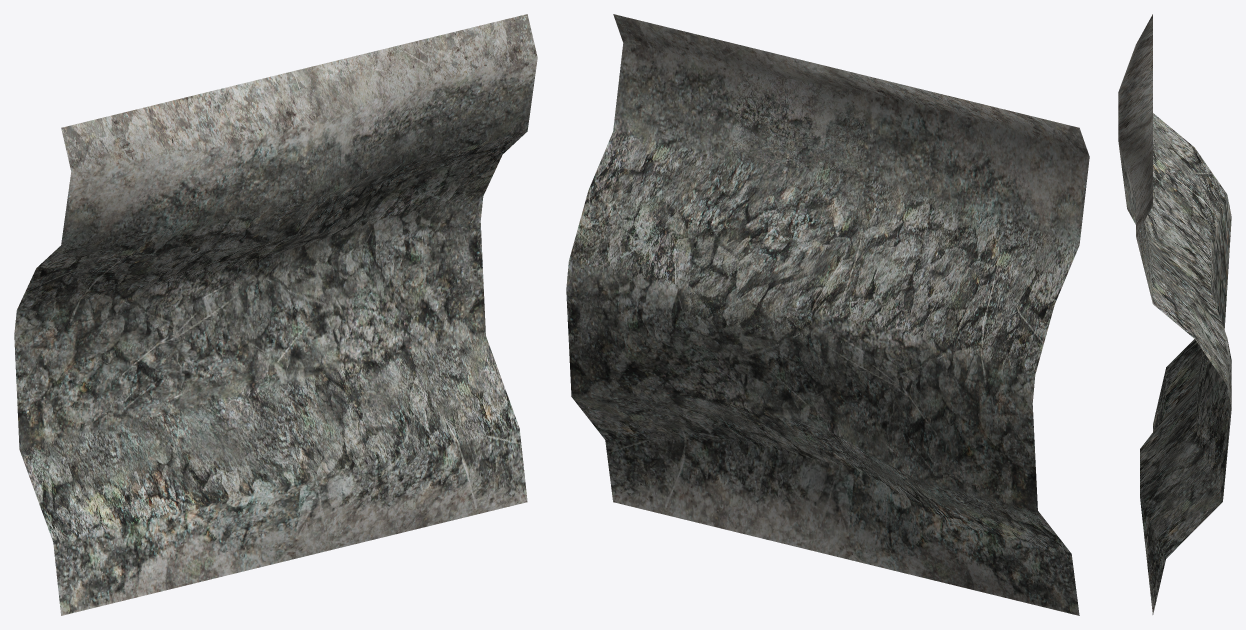
The model's file is CaveWall01.DAE.
The picture shows the model from 3 angles, left to right: view 1: azimuth 30°, elevation 25°; view 2: azimuth 150°, elevation 25°; view 3: azimuth 270°, elevation 25°; orthographic projection. The views are drawn at different scales.
Parts seen in each view (by area): view 1: mansionbase_default; view 2: mansionbase_default; view 3: mansionbase_default.
Boxes of the visible parts, x1,y1,x2,y2 form: mansionbase_default: [14, 14, 537, 615]; mansionbase_default: [566, 14, 1089, 615]; mansionbase_default: [1118, 14, 1231, 614].
Size of the model in its own units: 4 by 4 by 1.
